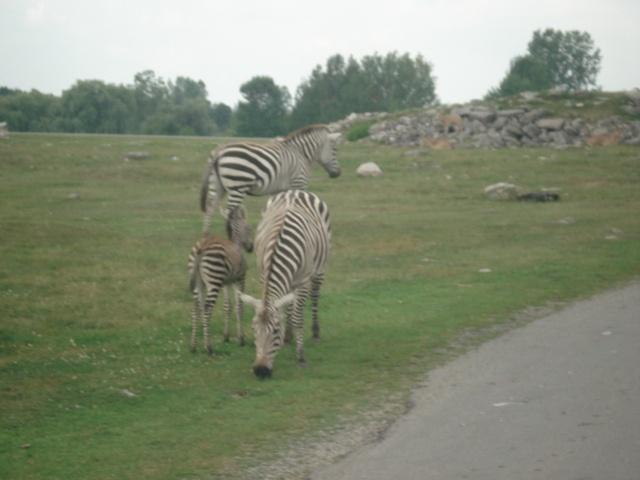zebra: (287, 284, 390, 472), (269, 183, 415, 302), (220, 279, 290, 426)
